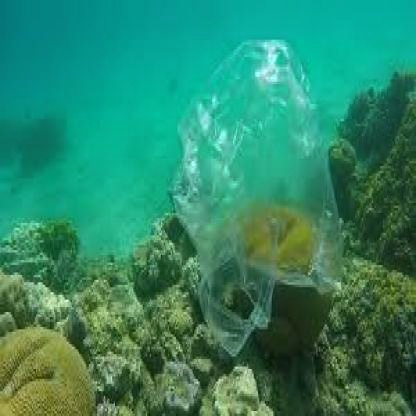pbag: (164, 30, 352, 356)
